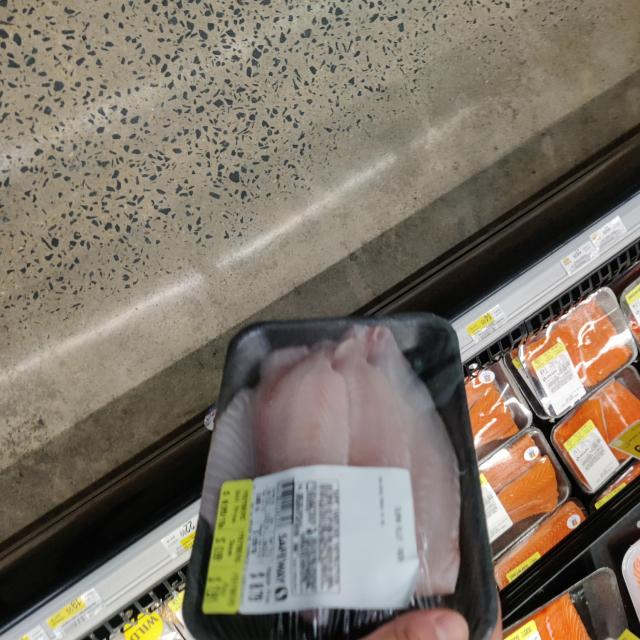Fish: (188, 305, 514, 640)
